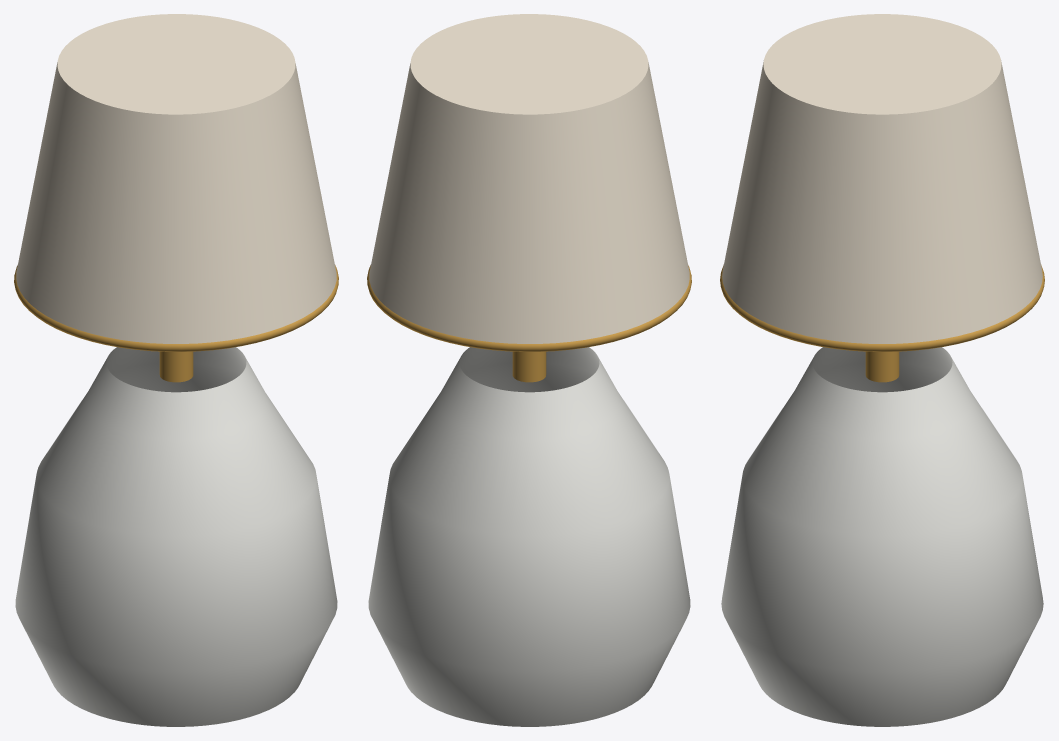
Rendered from modern_table_lamp.obj.
The picture shows the model from 3 angles, left to right: view 1: azimuth 30°, elevation 25°; view 2: azimuth 150°, elevation 25°; view 3: azimuth 270°, elevation 25°; orthographic projection.
Visible parts, largest first — view 1: base, shade, shade_rim, neck; view 2: base, shade, shade_rim, neck; view 3: base, shade, shade_rim, neck.
Boxes of the visible parts, x1,y1,x2,y2 form: base: [15, 347, 337, 726]; shade: [16, 14, 336, 343]; shade_rim: [14, 265, 338, 351]; neck: [159, 351, 193, 382]; base: [368, 347, 690, 726]; shade: [369, 14, 689, 343]; shade_rim: [367, 265, 691, 351]; neck: [512, 351, 546, 382]; base: [721, 347, 1043, 726]; shade: [722, 14, 1042, 343]; shade_rim: [720, 264, 1044, 351]; neck: [865, 351, 899, 382].
Bounding box in the file's own units: 0.232 × 0.485 × 0.232.
